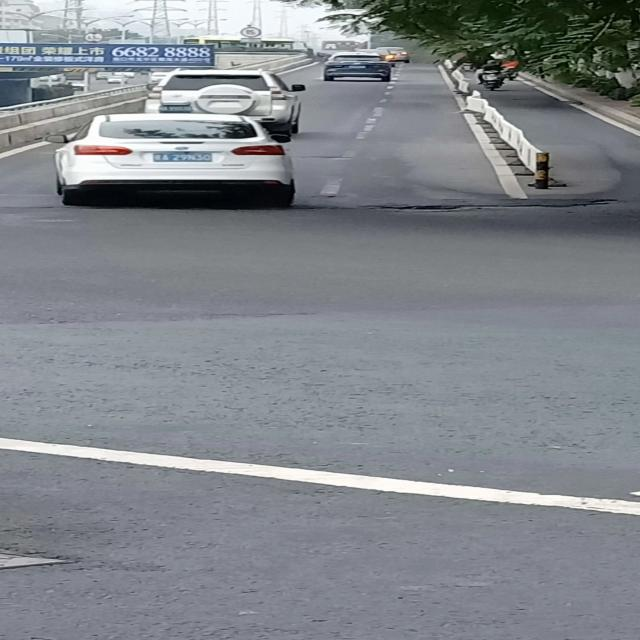Pothole: (349, 194, 612, 218)
